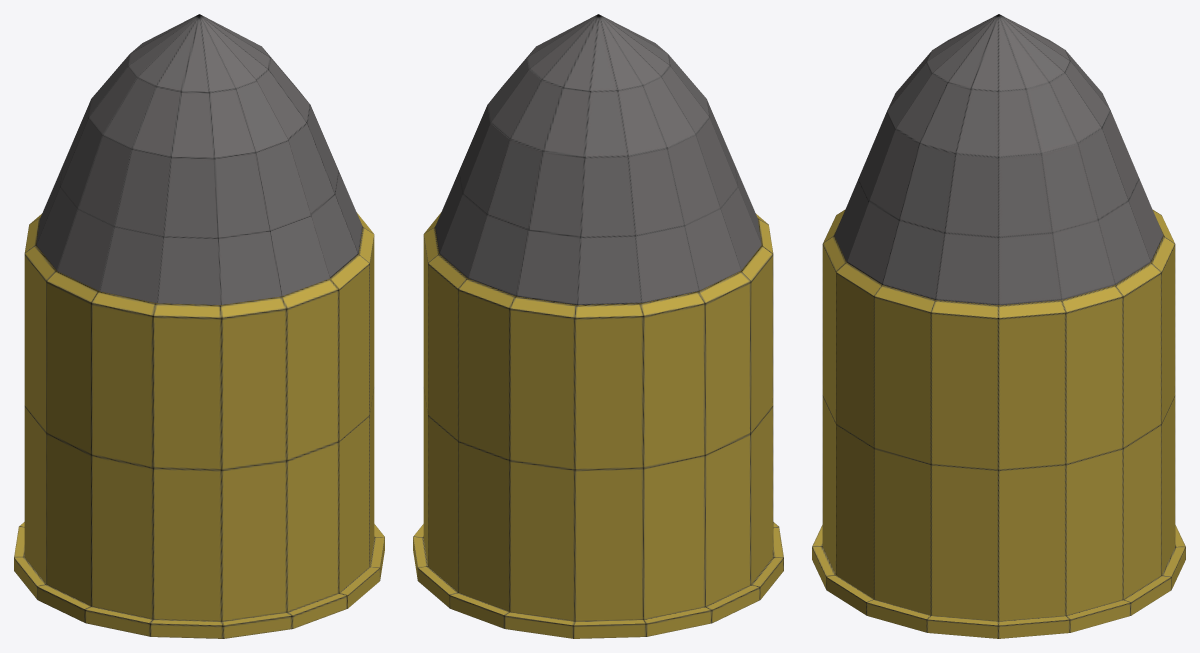
The model's file is PistolBullet.fbx.
The picture shows the model from 3 angles, left to right: view 1: azimuth 30°, elevation 25°; view 2: azimuth 150°, elevation 25°; view 3: azimuth 270°, elevation 25°; orthographic projection.
Visible parts, largest first — view 1: Cylinder; view 2: Cylinder; view 3: Cylinder.
Boxes of the visible parts, bbox=[...] form: Cylinder: bbox=[14, 14, 384, 638]; Cylinder: bbox=[413, 14, 783, 638]; Cylinder: bbox=[812, 14, 1185, 638].
Bounding box in the file's own units: 1.06 × 1.72 × 1.06.
